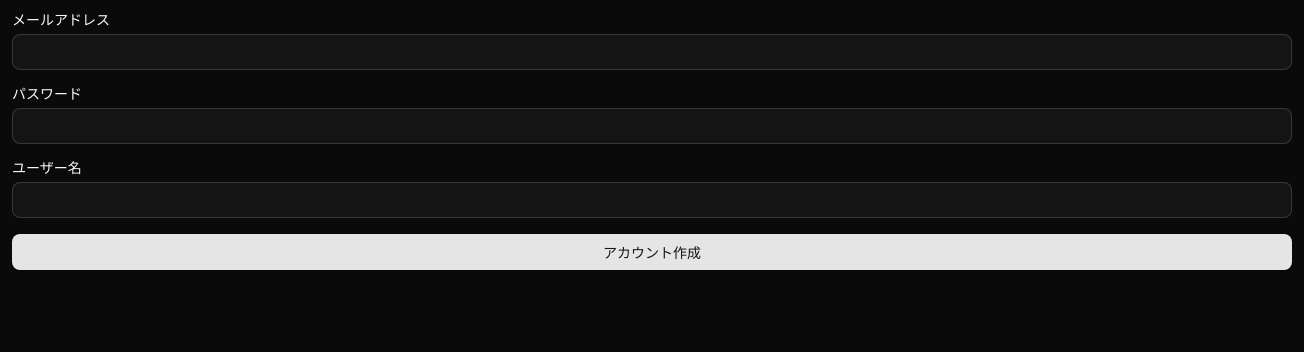
SignupForm › shows validation error when password is too short
The image size is (1304, 352).
In the field labelled "メールアドレス": (652, 52) [12,34,1292,70], type "dj@example.com"
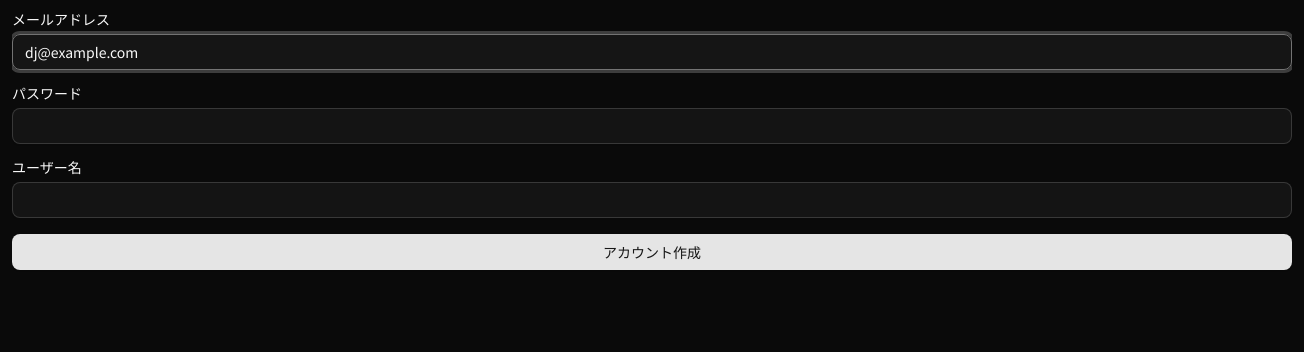
In the password field labelled "パスワード": (652, 126) [12,108,1292,144], type "short"
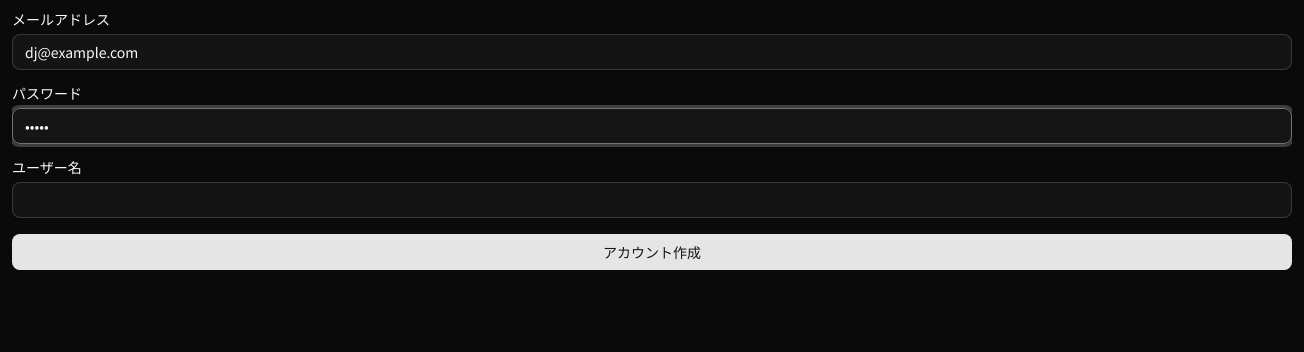
In the field labelled "ユーザー名": (652, 200) [12,182,1292,218], type "DJName"
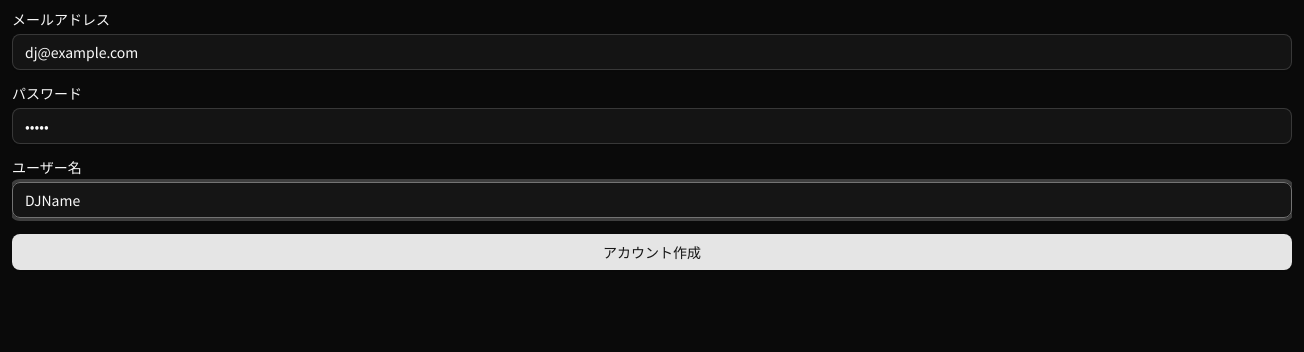
Click the button "アカウント作成": (652, 252) [12,234,1292,270]
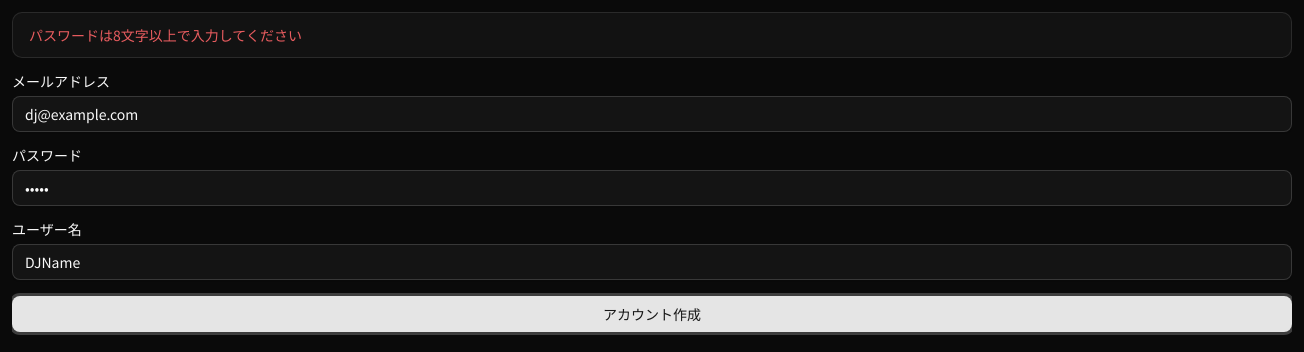
expect the message "パスワードは8文字以上で入力してください" is shown: met, box [12,12,1292,58]
